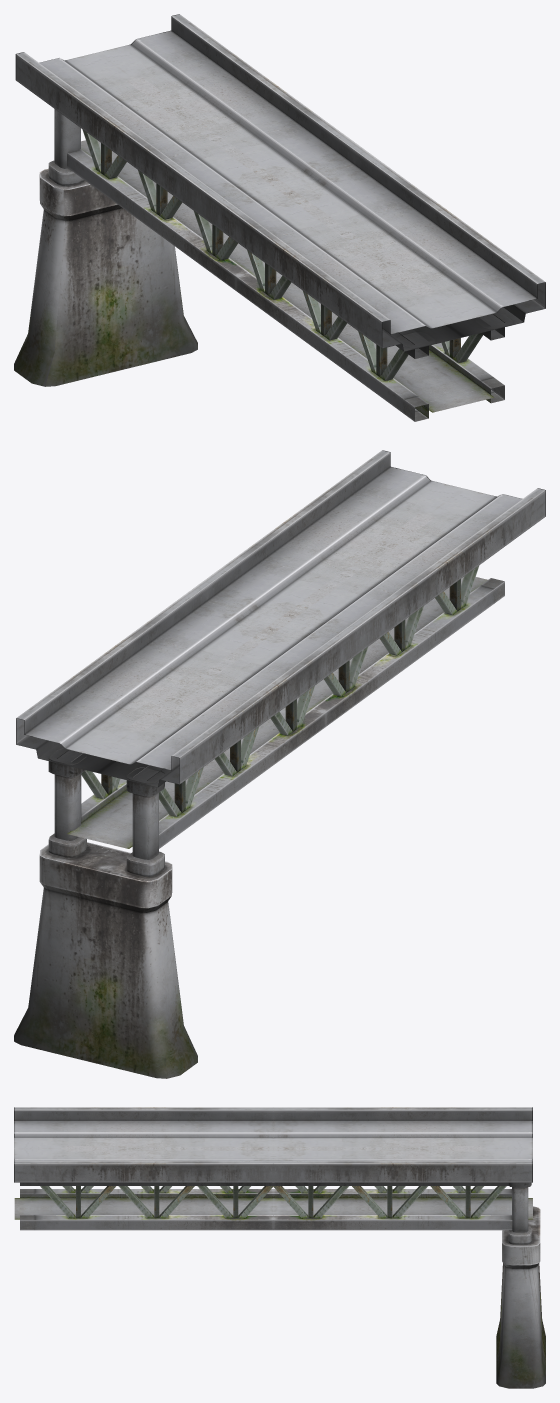
File: Bridge_L2.FBX
The picture shows the model from 3 angles, top to bottom: view 1: azimuth 30°, elevation 25°; view 2: azimuth 150°, elevation 25°; view 3: azimuth 270°, elevation 25°; orthographic projection. The views are drawn at different scales.
Visible parts, largest first — view 1: Bridge_L2; view 2: Bridge_L2; view 3: Bridge_L2.
Part boxes in pixels (left/top/right/bottom): Bridge_L2: left=14, top=14, right=545, bottom=421; Bridge_L2: left=14, top=450, right=545, bottom=1078; Bridge_L2: left=14, top=1107, right=545, bottom=1388.
Bounding box in the file's own units: 7.67 × 13.97 × 30.03.
1 material, 1 textured.
